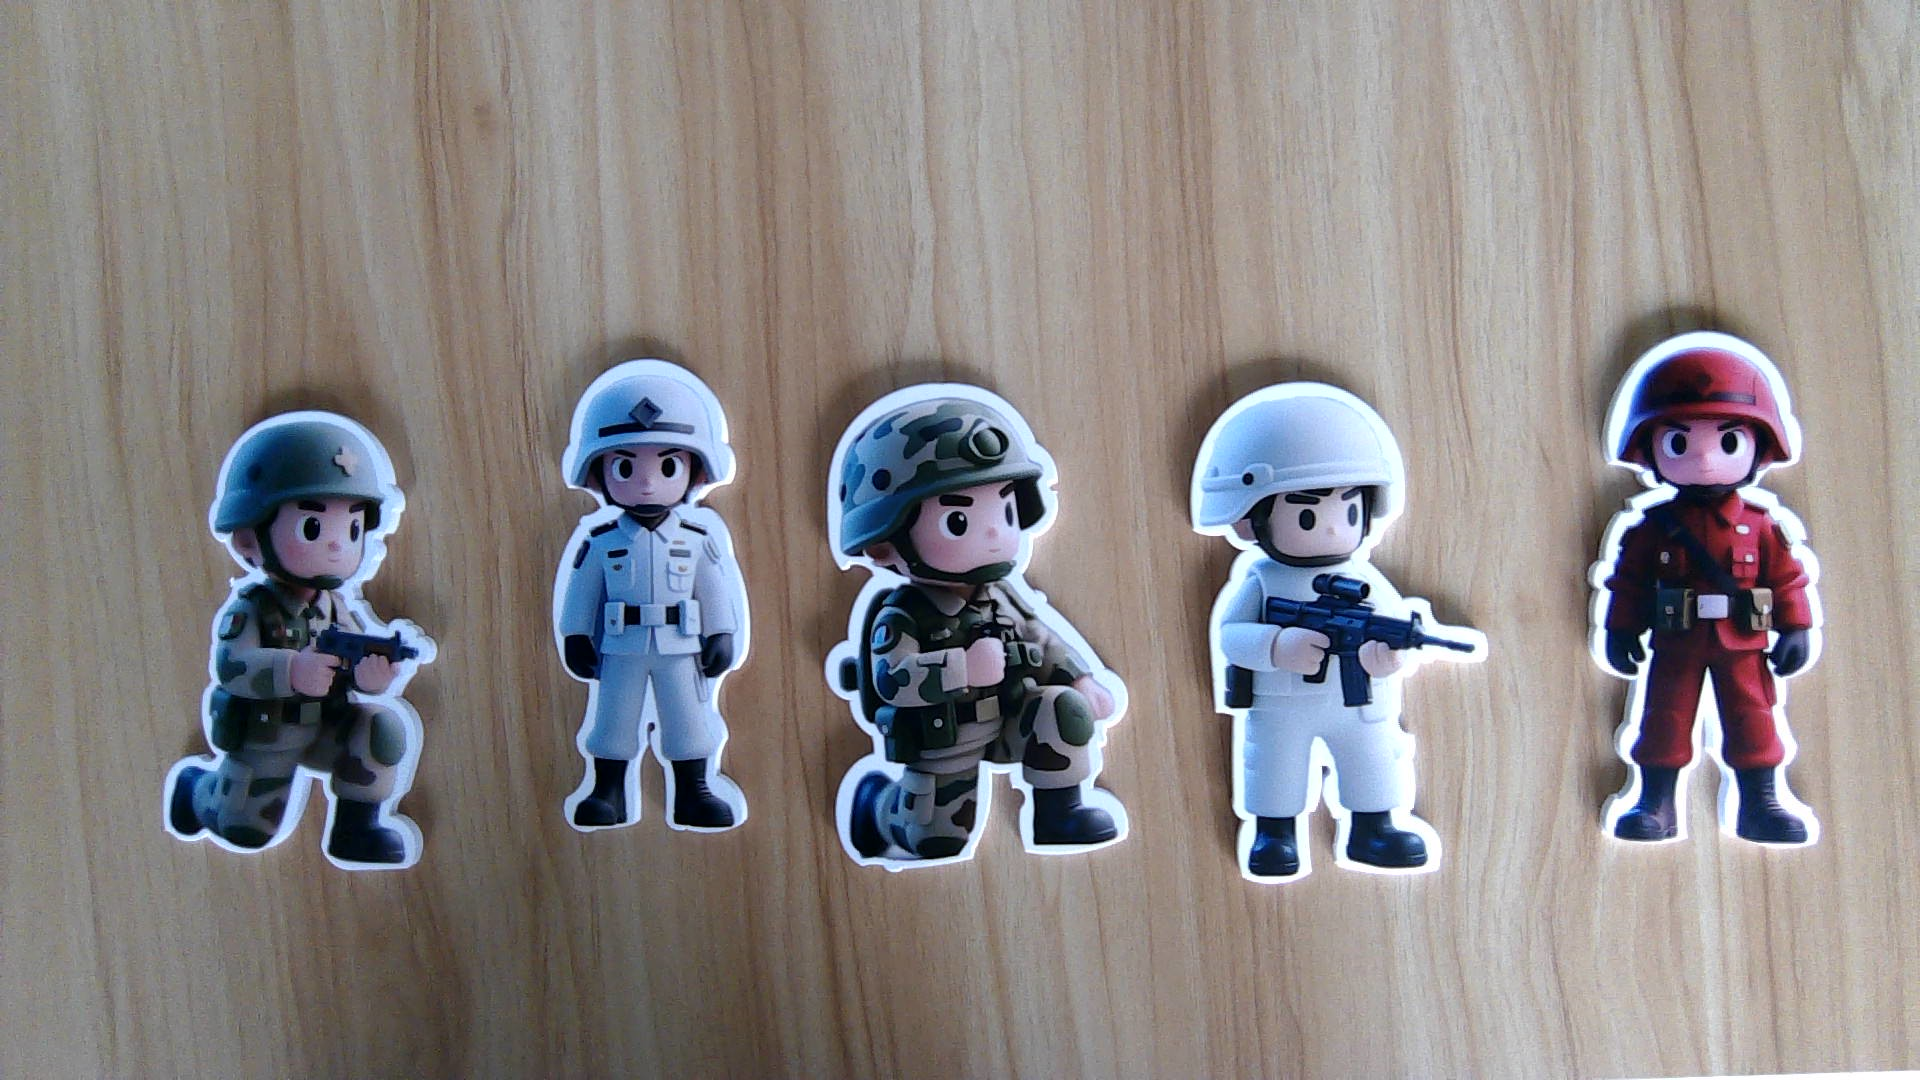人质: (1203, 560, 1481, 882), (549, 506, 752, 833)
友军: (822, 588, 1130, 870), (158, 588, 434, 870)
敌人1: (1577, 489, 1829, 855)
